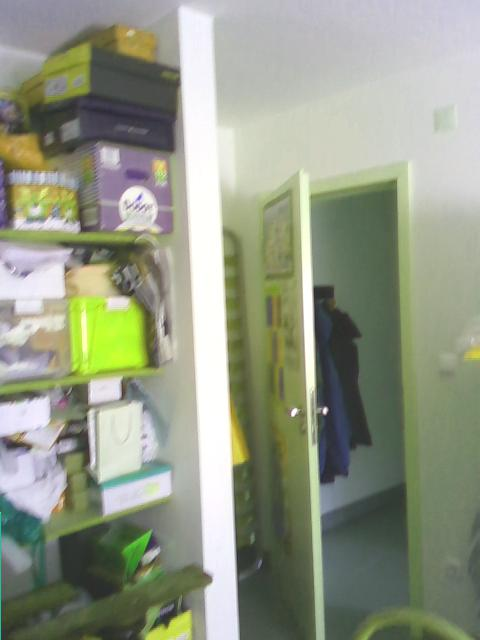semi_door: (257, 159, 421, 639)
